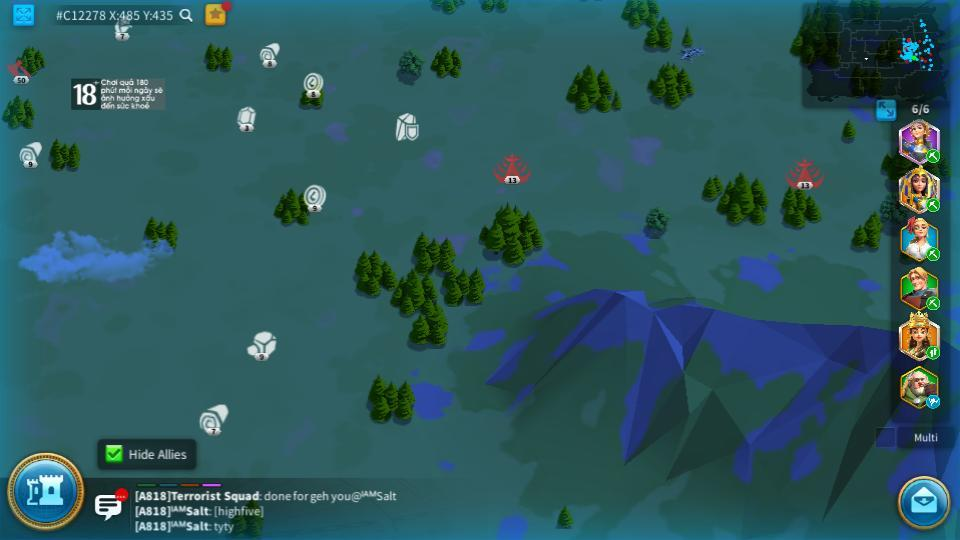gem-z-out: (234, 107, 257, 130)
march_farming: (925, 197, 941, 212)
march_idle: (925, 394, 942, 408)
march_marching: (925, 345, 941, 359), (925, 150, 942, 162), (925, 297, 942, 308)
